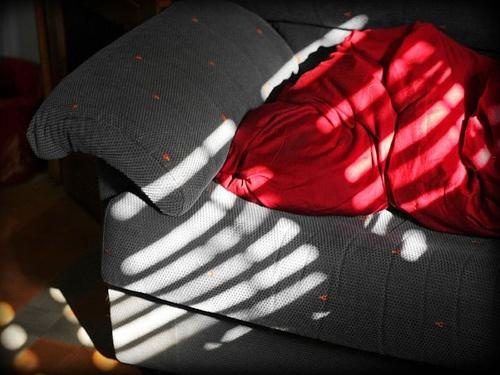sofa: (27, 1, 500, 375)
